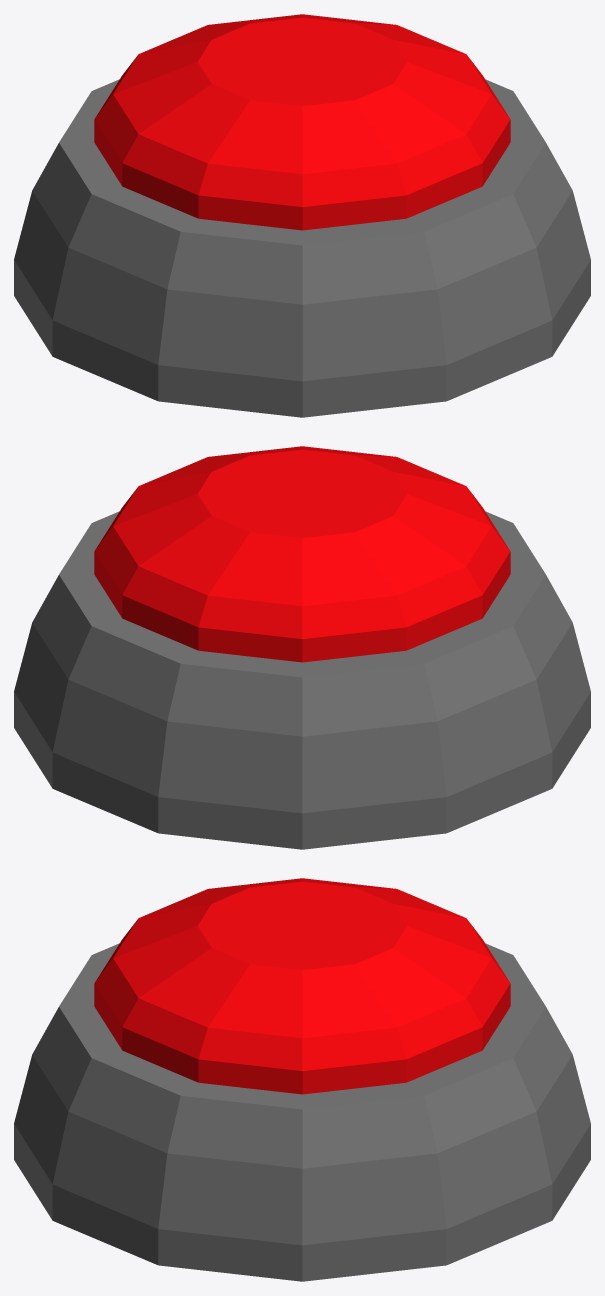
The model's file is windowbutton.fbx.
3 renders of one model, top to bottom at view 1: azimuth 30°, elevation 25°; view 2: azimuth 150°, elevation 25°; view 3: azimuth 270°, elevation 25°, orthographic.
Visible parts, largest first — view 1: button_bace, button; view 2: button_bace, button; view 3: button_bace, button.
Part boxes in pixels (x1,y1,x2,y2): button_bace: (14, 79, 590, 417); button: (94, 14, 510, 230); button_bace: (14, 511, 590, 849); button: (94, 446, 510, 662); button_bace: (14, 943, 590, 1281); button: (94, 878, 510, 1094).
Size of the model in its own units: 3.83 by 1.72 by 3.83.
Materials: 1 (1 with a texture image).
